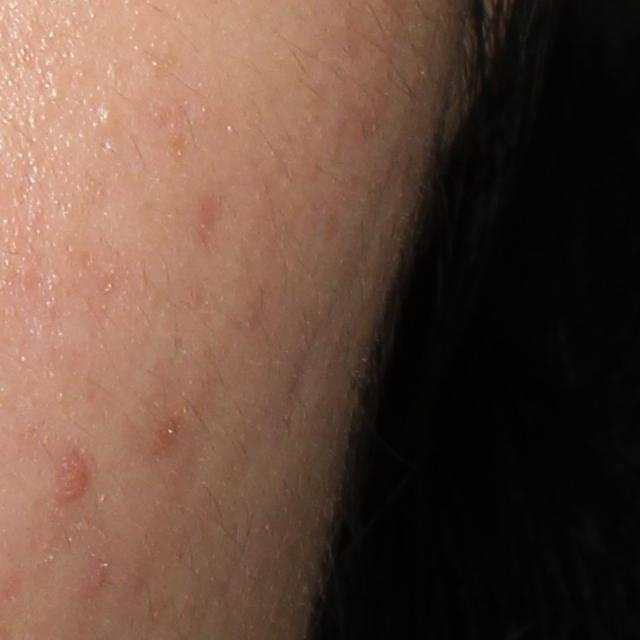comedo: (93, 106, 118, 130)
papule: (54, 445, 98, 505)
